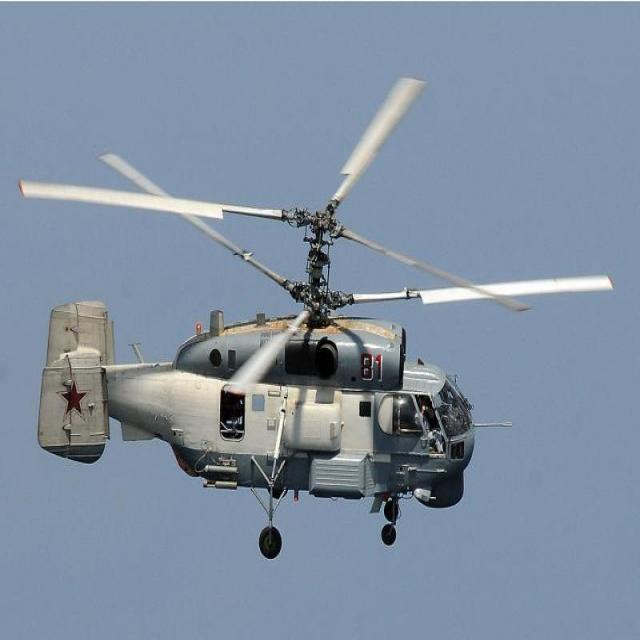MIL_HELO: (14, 72, 618, 562)
